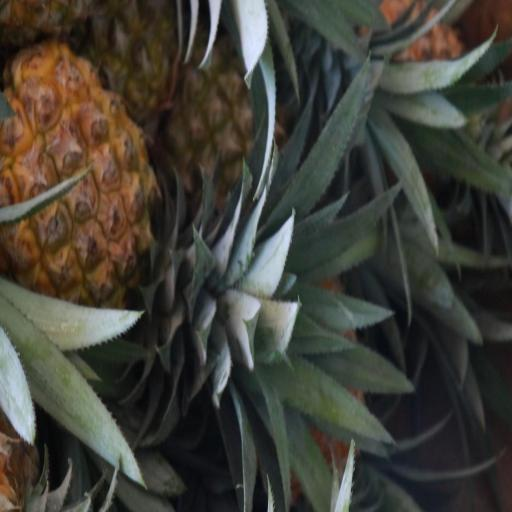Pineapple - v8 v1: (0, 43, 182, 316)
